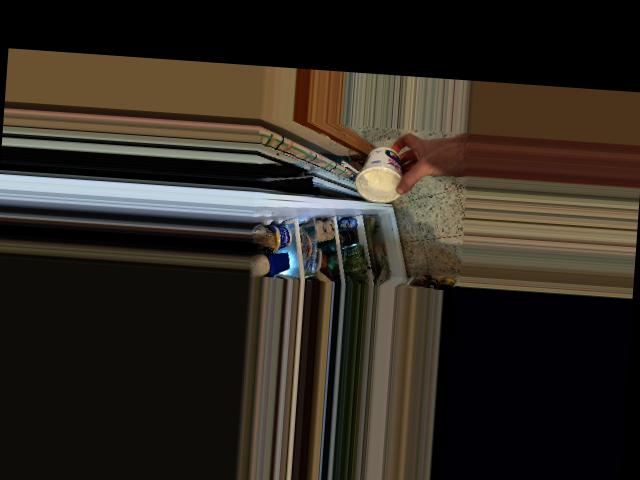cotage: (358, 147, 405, 203)
